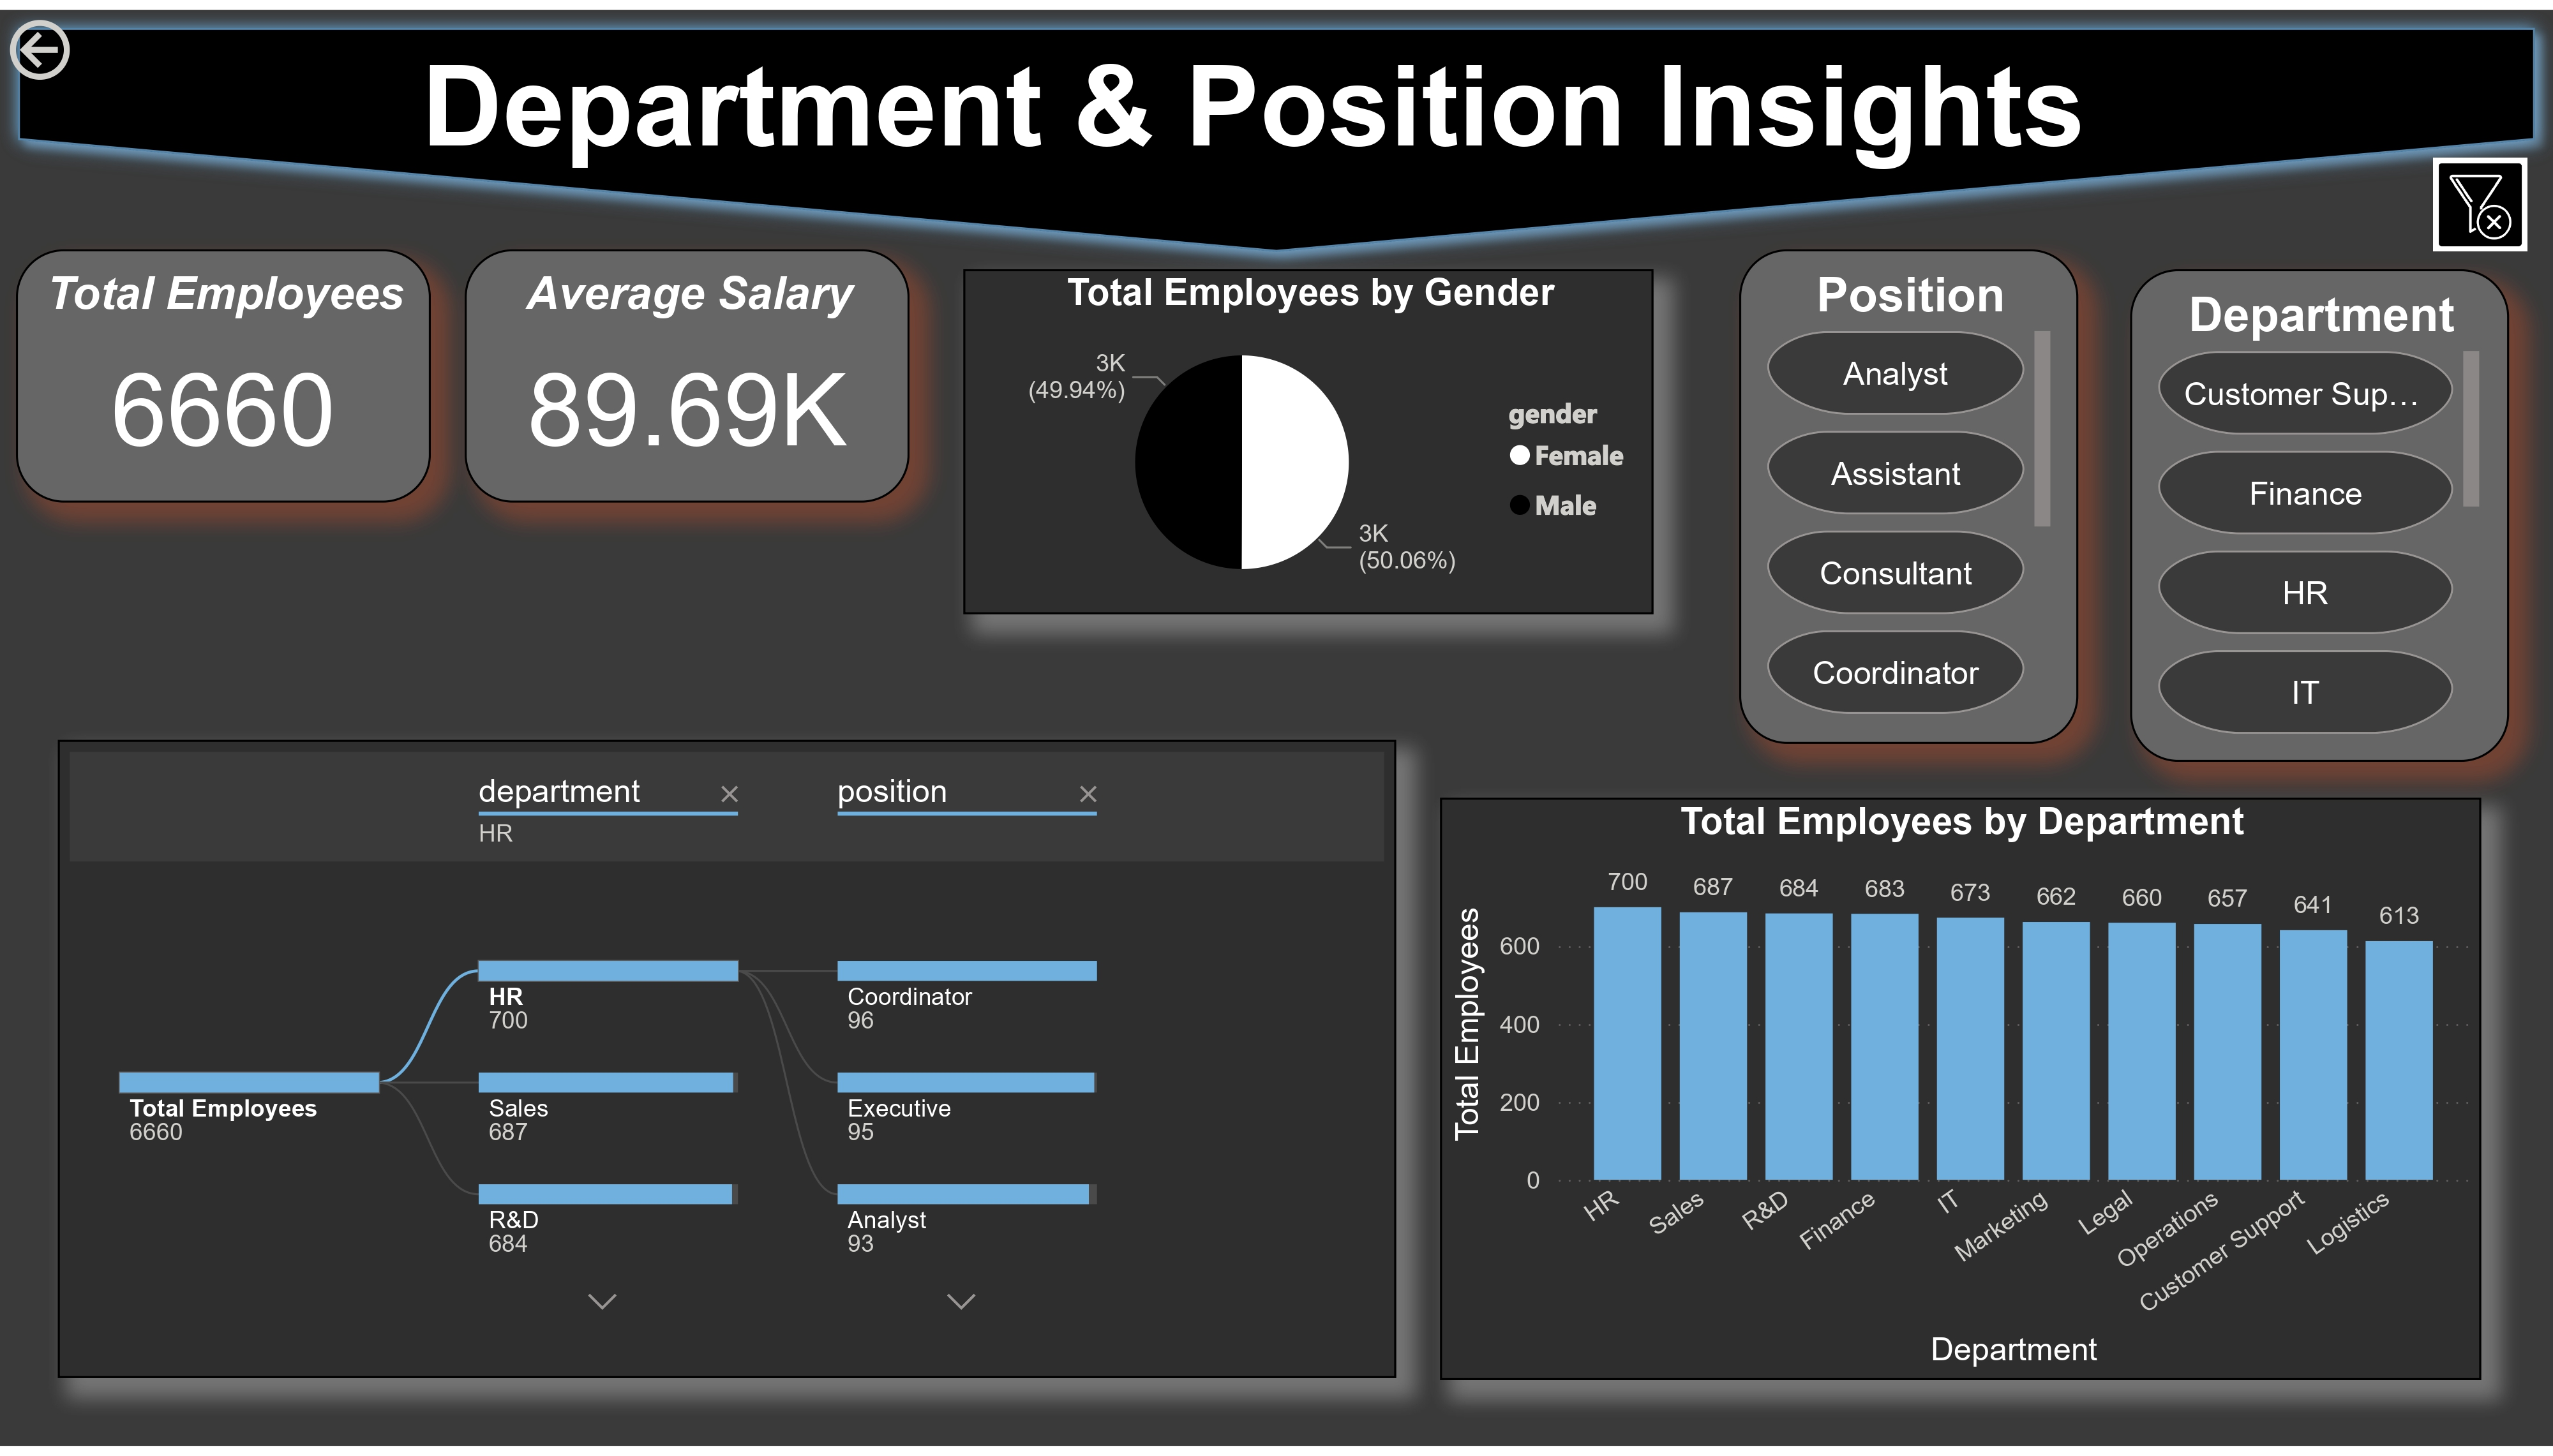

The page's visual inventory and layout, read from the dashboard file:
{"tool":"powerbi","page":{"name":"Department & Position Insights","canvas":[1280,720],"ordinal":3},"visuals":[{"type":"clusteredColumnChart","title":"Total Employees by Department","fields":{"Y":["employee_dataset.TotalEmployees"],"Category":["department.department"]},"box":[722.3,394.6,521.6,291.6],"z":0},{"type":"shape","box":[0,0,1280,130.3],"z":1000},{"type":"advancedSlicerVisual","title":"Department","fields":{"Values":["department.department"]},"box":[1068.4,130,190,247.3],"z":2000},{"type":"textbox","box":[167.3,10.7,923,99.2],"z":3000},{"type":"card","title":"Total Employees","fields":{"Values":["employee_dataset.TotalEmployees"]},"box":[7.7,119.8,207.8,127.5],"z":4000},{"type":"advancedSlicerVisual","title":"Position","fields":{"Values":["position.position"]},"box":[872.5,119.6,170.2,248],"z":5000},{"type":"card","title":"Average Salary","fields":{"Values":["employee_dataset.AvgSalary"]},"box":[233.3,119.8,223.1,127.5],"z":6000},{"type":"decompositionTreeVisual","fields":{"ExplainBy":["department.department","position.position"],"Analyze":["employee_dataset.TotalEmployees"]},"box":[29.4,366.5,671.4,319.7],"z":7000},{"type":"pieChart","title":"Total Employees by Gender","fields":{"Y":["employee_dataset.TotalEmployees"],"Category":["gender.gender"]},"box":[482.8,129.7,346.4,172.5],"z":8000},{"type":"image","box":[1215,65,57.4,65],"z":9000},{"type":"actionButton","box":[0,0,100,40],"z":9001}]}

Visuals, with their boxes in screenshot pixels (x1, y1, x2, y2), scaled from the page's 1280x720 canvas onto the 2553x1456 screenshot:
"Total Employees by Department" clusteredColumnChart: detection(1441, 798, 2481, 1388)
shape: detection(0, 0, 2552, 264)
"Department" advancedSlicerVisual: detection(2131, 263, 2510, 763)
textbox: detection(334, 22, 2175, 222)
"Total Employees" card: detection(15, 242, 430, 500)
"Position" advancedSlicerVisual: detection(1741, 242, 2079, 743)
"Average Salary" card: detection(465, 242, 910, 500)
decompositionTreeVisual - department.department x position.position: detection(59, 741, 1398, 1388)
"Total Employees by Gender" pieChart: detection(963, 262, 1654, 611)
image: detection(2423, 131, 2538, 263)
actionButton: detection(0, 0, 199, 81)
